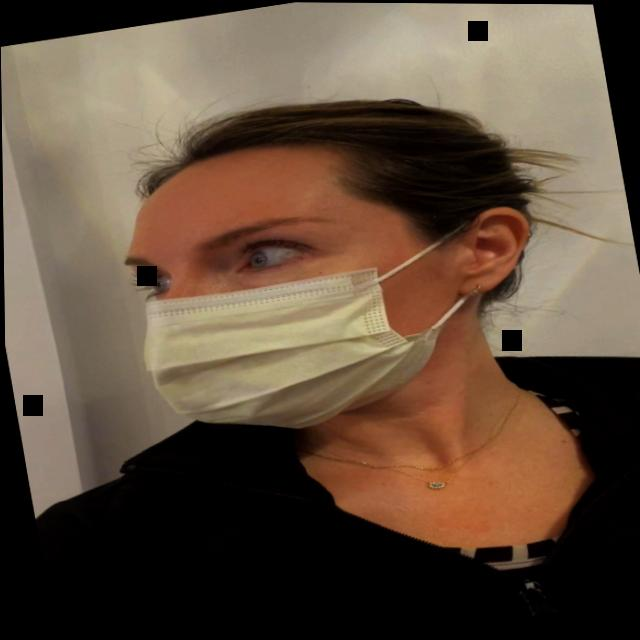Mask: (74, 76, 584, 499)
